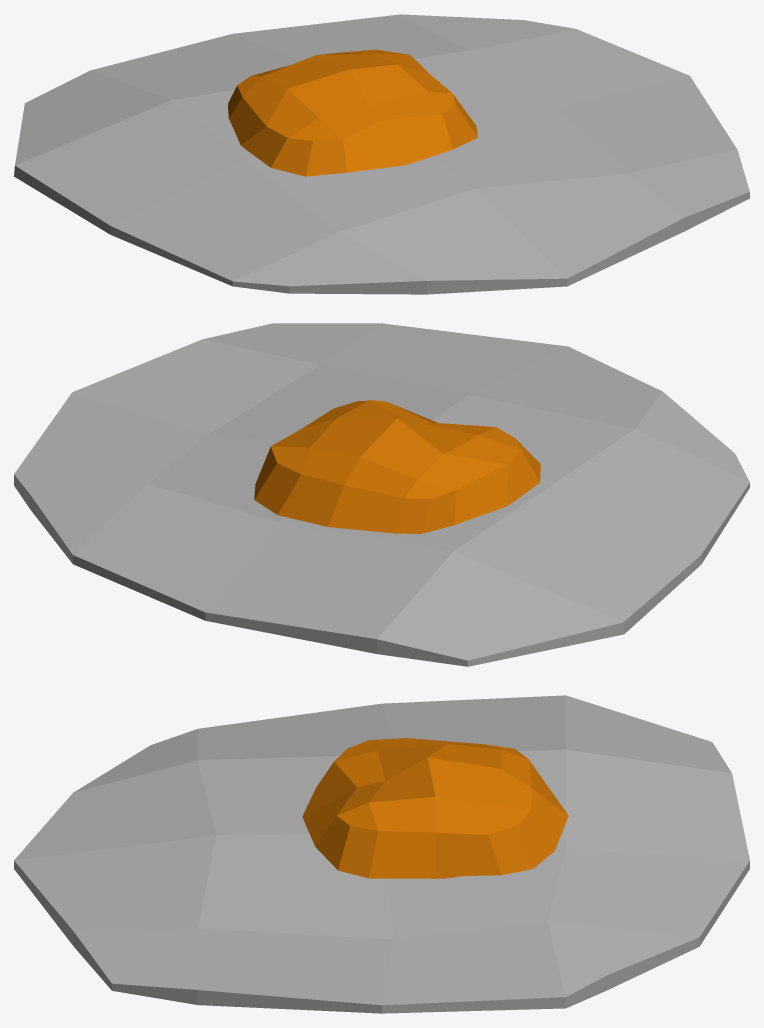
File: Beaten Egg.fbx
The picture shows the model from 3 angles, top to bottom: view 1: azimuth 30°, elevation 25°; view 2: azimuth 150°, elevation 25°; view 3: azimuth 270°, elevation 25°; orthographic projection. The views are drawn at different scales.
Parts seen in each view (by area): view 1: FriedEgg; view 2: FriedEgg; view 3: FriedEgg.
Part boxes in pixels (x1=…): FriedEgg: x1=14, y1=14, x2=749, y2=294; FriedEgg: x1=14, y1=323, x2=749, y2=666; FriedEgg: x1=14, y1=695, x2=749, y2=1013.
Bounding box in the file's own units: 14.53 × 2.03 × 14.23.
